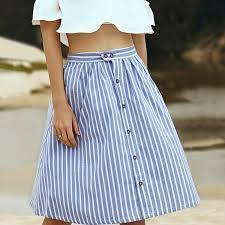skirt: (30, 45, 203, 224)
